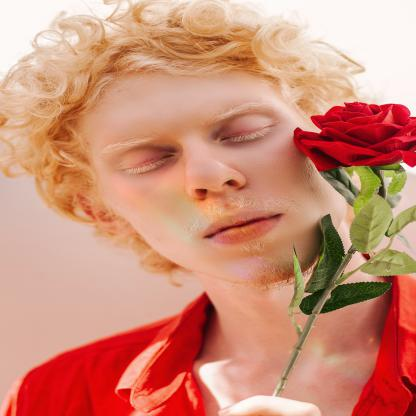Eye: (106, 145, 184, 180), (207, 110, 281, 146)
Mouth: (196, 204, 294, 249)
Nose: (182, 154, 262, 204)
